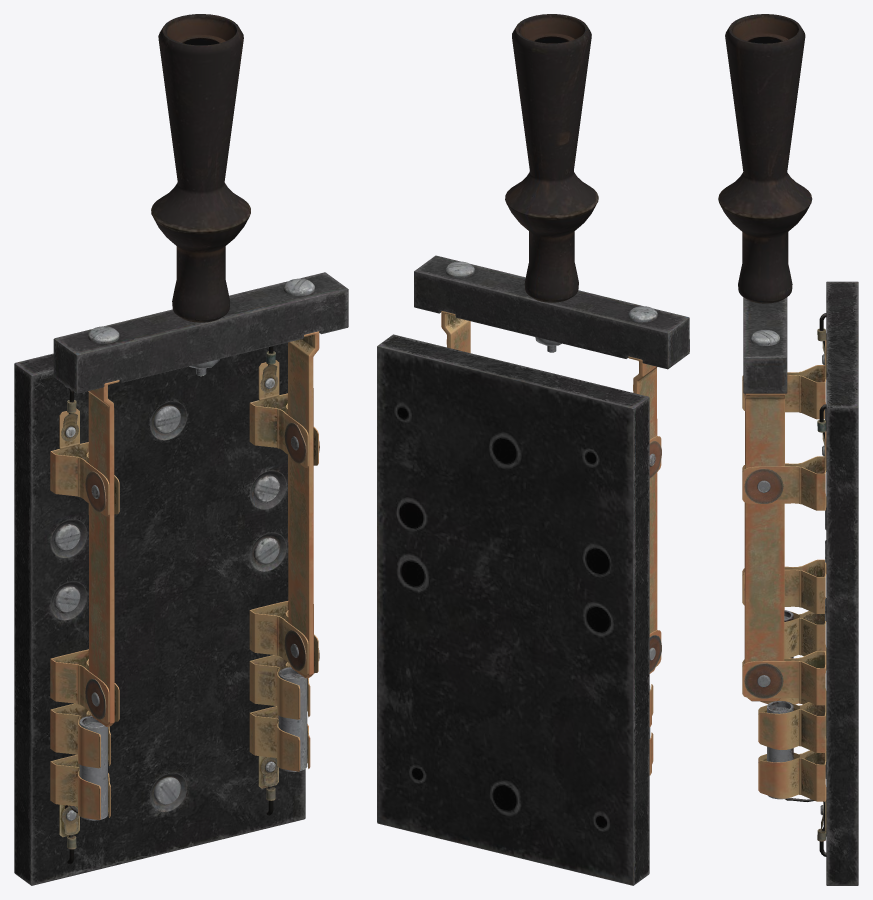
The model's file is knife_switch.glb.
The picture shows the model from 3 angles, left to right: view 1: azimuth 30°, elevation 25°; view 2: azimuth 150°, elevation 25°; view 3: azimuth 270°, elevation 25°; orthographic projection. The views are drawn at different scales.
Parts seen in each view (by area): view 1: Base, Blade; view 2: Base, Blade; view 3: Base, Blade.
Part boxes in pixels (bbox=[...]): Base: bbox=[14, 342, 319, 885]; Blade: bbox=[53, 14, 348, 726]; Base: bbox=[377, 334, 661, 885]; Blade: bbox=[414, 14, 689, 673]; Base: bbox=[742, 281, 858, 885]; Blade: bbox=[718, 14, 812, 701].
Size of the model in its own units: 0.178 by 0.5244 by 0.0841.
Materials: 1 (1 with a texture image).
